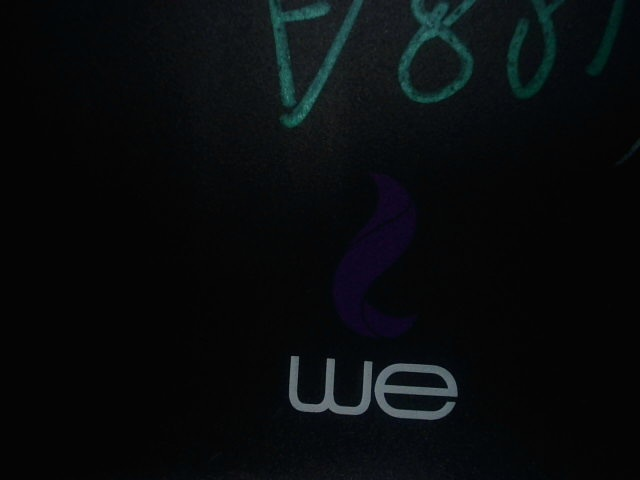AT_We: (273, 167, 482, 420)
